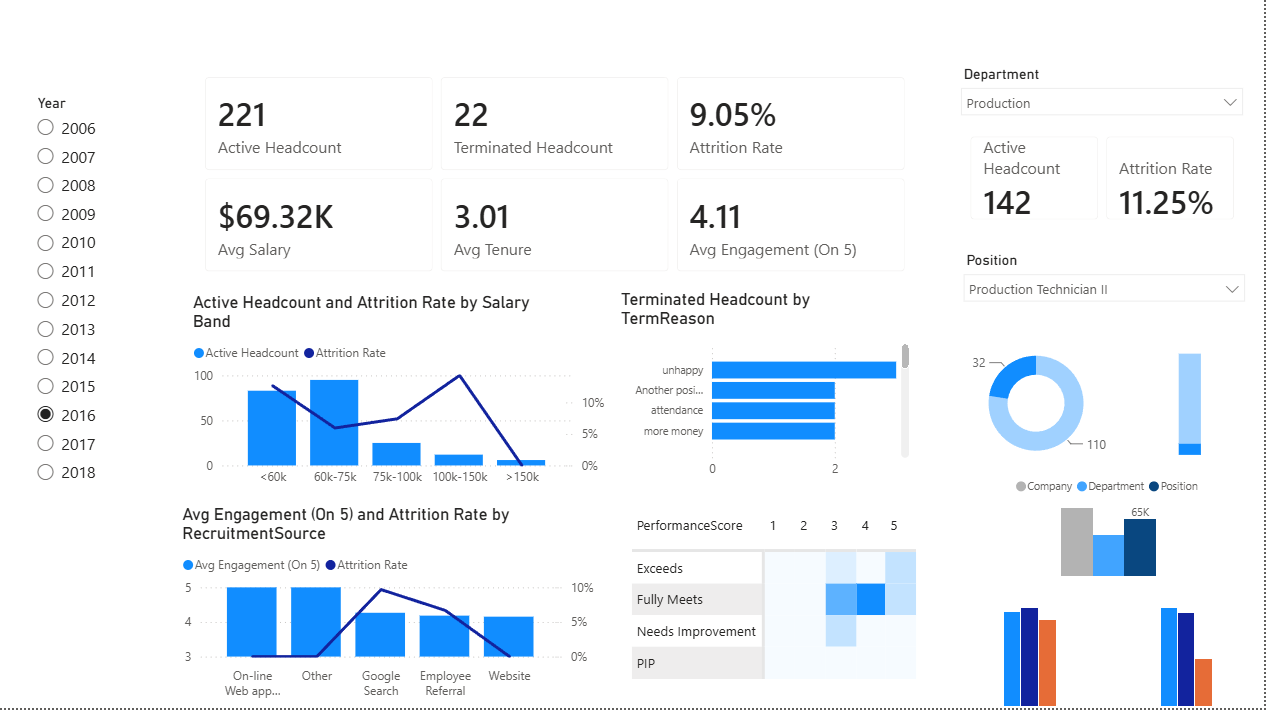

This screenshot's page, from the dashboard's own definition file:
{"tool":"powerbi","page":{"name":"Page 1","canvas":[1280,720],"ordinal":0},"visuals":[{"type":"cardVisual","fields":{"Data":["HRTable.Active Headcount","HRTable.Terminated Headcount","HRTable.Attrition Rate","HRTable.Average Salary","HRTable.Avg Tenure","HRTable.Avg Engagement (On 5)"]},"box":[195.4,66.8,742.6,231.2],"z":0},{"type":"slicer","fields":{"Values":["YearTable.Year"]},"box":[29.3,96.1,135.2,418.5],"z":1000},{"type":"slicer","fields":{"Values":["HRTable.Department"]},"box":[964.1,66.8,304.5,60.3],"z":2000},{"type":"barChart","fields":{"Category":["HRTable.TermReason"],"Y":["HRTable.Terminated Headcount"]},"box":[630.7,298.3,292.9,193.4],"z":3000},{"type":"pivotTable","fields":{"Columns":["HRTable.EmpSatisfaction"],"Rows":["HRTable.PerformanceScore"],"Values":["HRTable.Terminated Headcount"]},"box":[637.5,514.9,299.7,189.3],"z":4000},{"type":"lineClusteredColumnComboChart","fields":{"Category":["HRTable.Salary Band"],"Y":["HRTable.Active Headcount"],"Y2":["HRTable.Attrition Rate"]},"box":[194.8,301,425,204.3],"z":5000},{"type":"lineStackedColumnComboChart","fields":{"Category":["HRTable.RecruitmentSource"],"Y":["HRTable.Avg Engagement (On 5)"],"Y2":["HRTable.Attrition Rate"]},"box":[183.9,514.9,425,204.3],"z":6000},{"type":"cardVisual","fields":{"Data":["HRTable.Active Headcount","HRTable.Attrition Rate"]},"box":[967.1,126.7,301,118.5],"z":7000},{"type":"slicer","fields":{"Values":["HRTable.Position"]},"box":[967.1,254.7,303.8,68.1],"z":8000},{"type":"donutChart","fields":{"Category":["Donut Department HC Category.Category"],"Y":["HRTable.Donut Value"]},"box":[967.1,322.8,166.2,179.8],"z":9000},{"type":"columnChart","fields":{"Series":["Donut Department HC Category.Category"],"Y":["HRTable.Terminated Share"]},"box":[1159.2,348.7,94,133.5],"z":10000},{"type":"clusteredColumnChart","fields":{"Series":["Hierarchy Compare.Level"],"Y":["HRTable.Salary Compare Value"]},"box":[979.4,482.2,288.8,107.6],"z":11000},{"type":"clusteredColumnChart","fields":{"Series":["Hierarchy Compare.Level"],"Y":["HRTable.Engagement Compare Value"]},"box":[964.4,610.2,159.4,110.3],"z":12000},{"type":"clusteredColumnChart","fields":{"Series":["Hierarchy Compare.Level"],"Y":["HRTable.EmpSatisfaction Compare Value"]},"box":[1123.8,610.2,156.6,110.3],"z":13000}]}

Visuals, with their boxes in screenshot pixels (x1, y1, x2, y2), scaled from the page's 1280x720 canvas onto the 1267x710 screenshot:
cardVisual - HRTable.Active Headcount x HRTable.Terminated Headcount: BBox(193, 66, 928, 294)
slicer - YearTable.Year: BBox(29, 95, 163, 507)
slicer - HRTable.Department: BBox(954, 66, 1256, 125)
barChart - HRTable.TermReason x HRTable.Terminated Headcount: BBox(624, 294, 914, 485)
pivotTable - HRTable.EmpSatisfaction x HRTable.PerformanceScore: BBox(631, 508, 928, 694)
lineClusteredColumnComboChart - HRTable.Salary Band x HRTable.Active Headcount: BBox(193, 297, 614, 498)
lineStackedColumnComboChart - HRTable.RecruitmentSource x HRTable.Avg Engagement (On 5): BBox(182, 508, 603, 709)
cardVisual - HRTable.Active Headcount x HRTable.Attrition Rate: BBox(957, 125, 1255, 242)
slicer - HRTable.Position: BBox(957, 251, 1258, 318)
donutChart - Donut Department HC Category.Category x HRTable.Donut Value: BBox(957, 318, 1122, 496)
columnChart - Donut Department HC Category.Category x HRTable.Terminated Share: BBox(1147, 344, 1240, 476)
clusteredColumnChart - Hierarchy Compare.Level x HRTable.Salary Compare Value: BBox(969, 476, 1255, 582)
clusteredColumnChart - Hierarchy Compare.Level x HRTable.Engagement Compare Value: BBox(955, 602, 1112, 709)
clusteredColumnChart - Hierarchy Compare.Level x HRTable.EmpSatisfaction Compare Value: BBox(1112, 602, 1266, 709)
